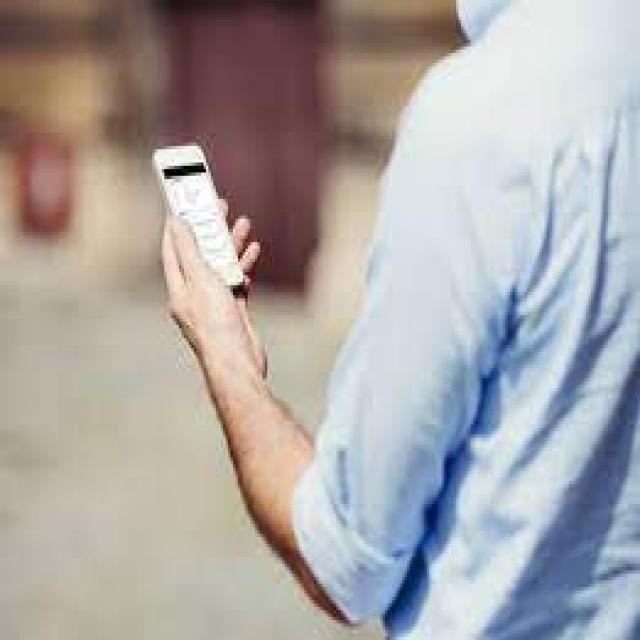Phone: (152, 142, 248, 286)
